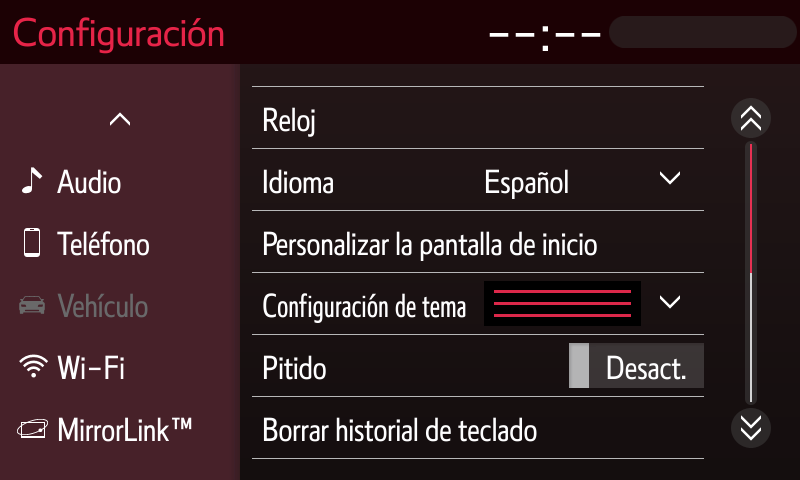touchPart: (248, 328, 709, 404), (249, 77, 708, 152), (249, 206, 707, 279), (249, 391, 707, 463), (249, 267, 705, 339), (250, 144, 708, 215), (14, 405, 199, 454), (14, 218, 176, 264), (17, 347, 139, 388), (17, 160, 130, 199), (728, 404, 776, 450), (726, 97, 772, 139), (103, 108, 137, 132)
untouchPart: (478, 9, 792, 56), (11, 13, 238, 53), (17, 285, 161, 324)
